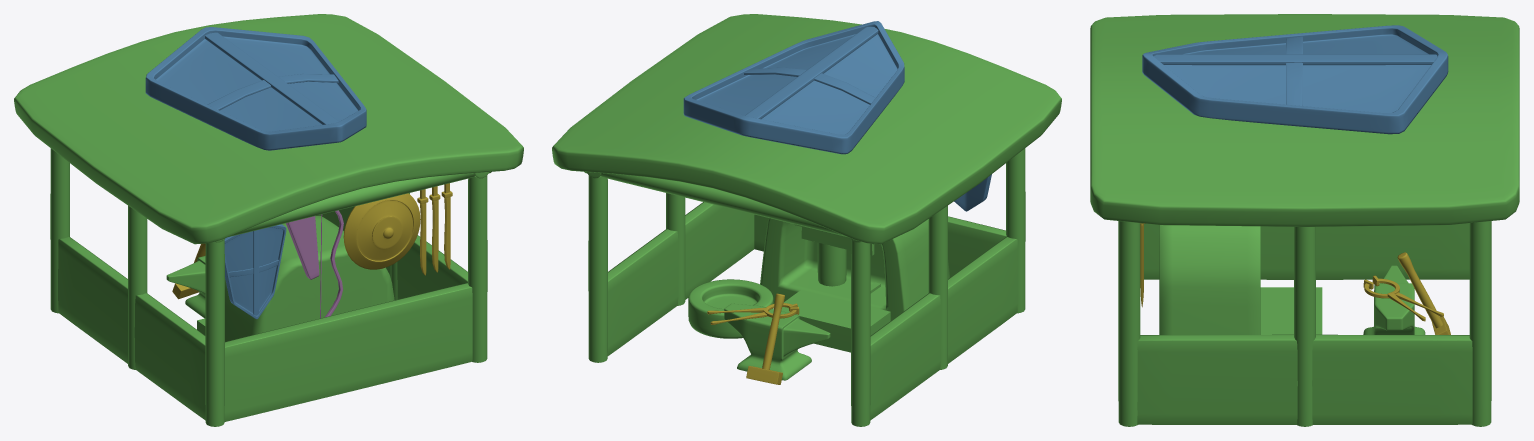
The model's file is SheldTwr.fbx.
3 renders of one model, left to right at view 1: azimuth 30°, elevation 25°; view 2: azimuth 150°, elevation 25°; view 3: azimuth 270°, elevation 25°, orthographic. The views are drawn at different scales.
Parts seen in each view (by area): view 1: pCube42, pCube53, pCube46, pCube52, pCylinder10, pCylinder26, pCylinder30, pCube55, pCylinder19, pCylinder35, pCube33, pCylinder33 (+9 smaller); view 2: pCube42, pCube46, pCube52, pCube33, pCylinder10, pCube29, pCylinder34, pCylinder33, pCylinder13, pCylinder38, pCube30, pCube53 (+10 smaller); view 3: pCube42, pCube33, pCube46, pCylinder10, pCube52, pCylinder34, pCylinder19, pCylinder32, pCube47, pCube29, pCube30, pCube48 (+3 smaller).
Part boxes in pixels (x1,y1,x2,y2): pCube42: [14, 14, 523, 244]; pCube53: [224, 283, 472, 421]; pCube46: [145, 27, 366, 150]; pCube52: [58, 236, 205, 420]; pCylinder10: [225, 216, 394, 341]; pCylinder26: [343, 193, 420, 269]; pCylinder30: [205, 240, 224, 426]; pCube55: [224, 224, 286, 319]; pCylinder19: [468, 175, 487, 362]; pCylinder35: [229, 171, 491, 236]; pCube33: [320, 206, 467, 299]; pCylinder33: [50, 148, 69, 313]; pCube42: [552, 14, 1061, 244]; pCube46: [683, 21, 904, 154]; pCube52: [870, 236, 1017, 420]; pCube33: [607, 202, 754, 355]; pCylinder10: [760, 218, 949, 320]; pCube29: [724, 303, 830, 380]; pCylinder34: [588, 175, 607, 362]; pCylinder33: [851, 240, 870, 426]; pCylinder13: [688, 279, 773, 338]; pCylinder38: [584, 171, 846, 236]; pCube30: [781, 290, 890, 352]; pCube53: [754, 214, 1006, 277]; pCube42: [1090, 14, 1519, 226]; pCube33: [1137, 334, 1472, 424]; pCube46: [1142, 25, 1448, 134]; pCylinder10: [1159, 225, 1260, 334]; pCube52: [1144, 223, 1469, 279]; pCylinder34: [1469, 221, 1491, 426]; pCylinder19: [1118, 221, 1140, 426]; pCylinder32: [1294, 227, 1315, 426]; pCube47: [1153, 54, 1437, 65]; pCube29: [1363, 265, 1425, 334]; pCube30: [1260, 287, 1322, 334]; pCube48: [1286, 36, 1302, 105].
Size of the model in its own units: 2.56 by 1.82 by 2.39.
